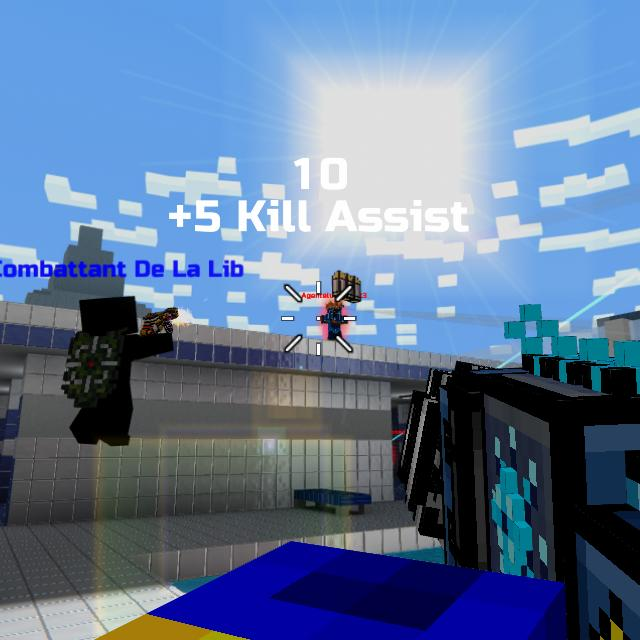Enemy: (322, 303, 350, 340)
